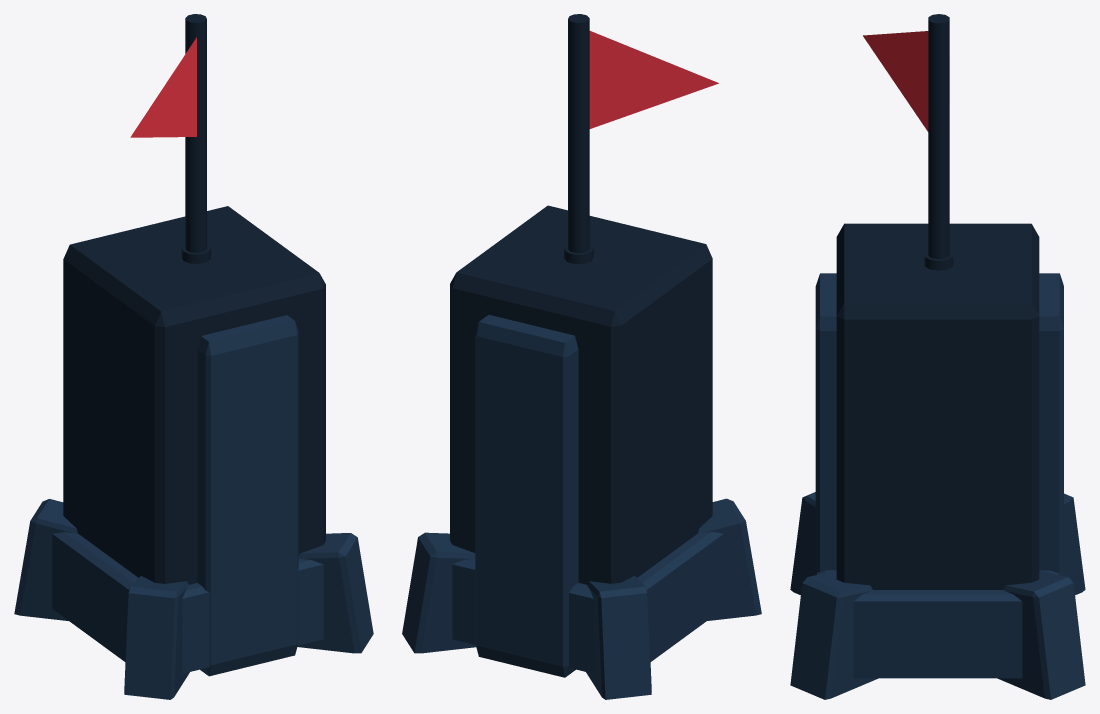
The model's file is 3D_WallTower.fbx.
The picture shows the model from 3 angles, left to right: view 1: azimuth 30°, elevation 25°; view 2: azimuth 150°, elevation 25°; view 3: azimuth 270°, elevation 25°; orthographic projection. The views are drawn at different scales.
Visible parts, largest first — view 1: 3D_WallTower; view 2: 3D_WallTower; view 3: 3D_WallTower.
Part boxes in pixels (bbox=[...]): 3D_WallTower: bbox=[14, 14, 373, 699]; 3D_WallTower: bbox=[402, 14, 761, 699]; 3D_WallTower: bbox=[790, 14, 1085, 699].
Bounding box in the file's own units: 153 × 355 × 153.
Materials: 1 (1 with a texture image).
